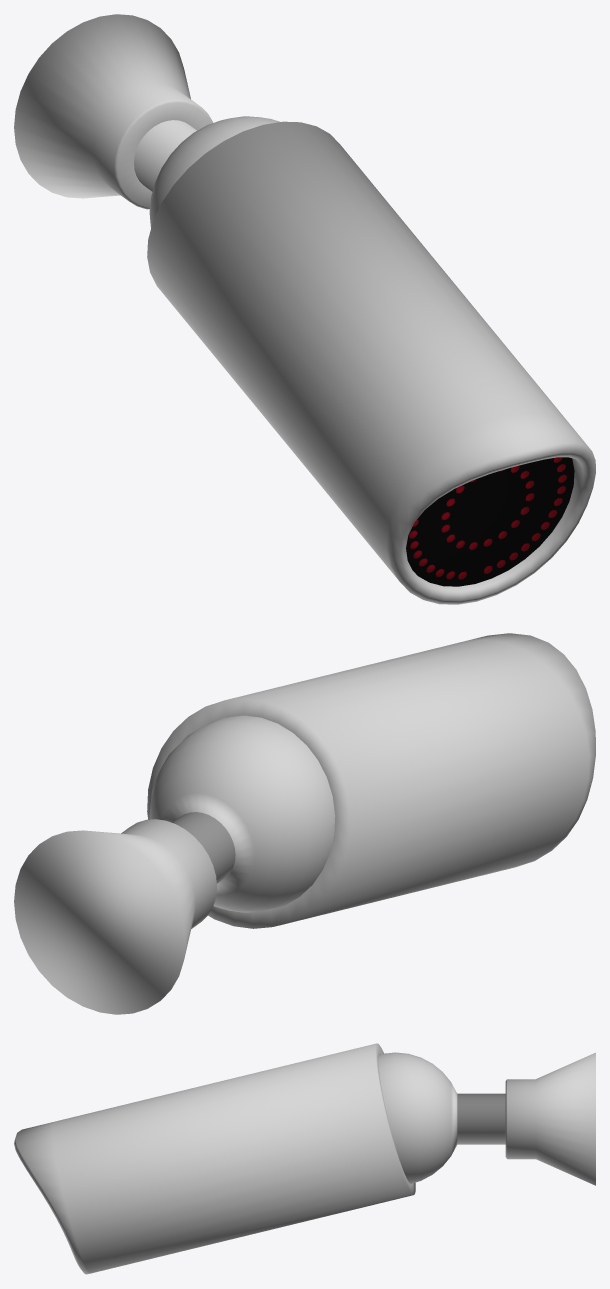
File: CameraEye.fbx
3 views of the same model, one above another, from view 1: azimuth 30°, elevation 25°; view 2: azimuth 150°, elevation 25°; view 3: azimuth 270°, elevation 25° (orthographic). The views are drawn at different scales.
Parts seen in each view (by area): view 1: SecurityCamera, CameraMount; view 2: SecurityCamera, CameraMount; view 3: SecurityCamera, CameraMount.
Boxes of the visible parts, x1,y1,x2,y2 form: SecurityCamera: (147,121,595,604); CameraMount: (14,14,279,227); SecurityCamera: (147,633,595,928); CameraMount: (14,715,335,1014); SecurityCamera: (14,1043,415,1274); CameraMount: (378,1052,595,1185).
Size of the model in its own units: 23.39 by 35.74 by 87.12.
